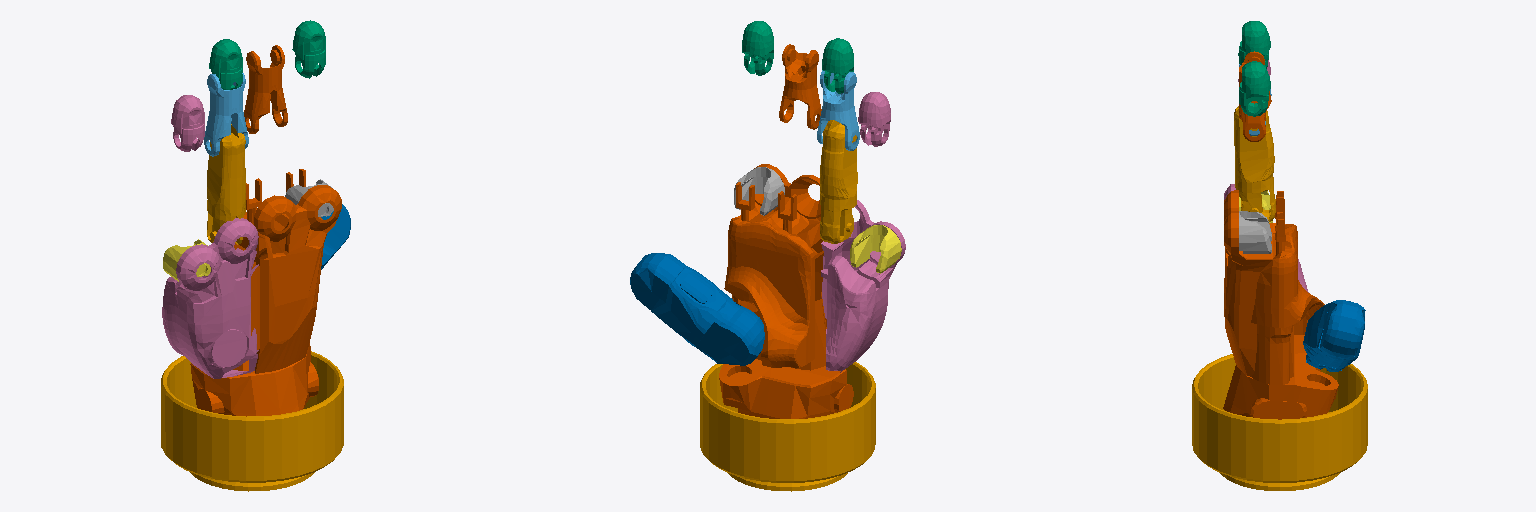
URDF robot description (left_schunk_hand):
<?xml version="1.0"?>
<robot name="left_schunk_hand">
    <link name="left_hand_base">
      <visual>
        <origin xyz="0 0 -0.032" rpy="0 0 0" />
        <geometry>
          <mesh filename="package://meshes/schunk_left/base10.stl" />
        </geometry>
      </visual>
      <collision>
        <origin xyz="0 0 -0.032" rpy="0 0 0" />
        <geometry>
          <mesh filename="package://meshes/schunk_left/base10.stl" />
        </geometry>
      </collision>
    </link>

    <link name="Ld">
      <!-- <visual> -->
      <!--      <geometry> -->
      <!--        <cylinder length="0.110" radius="${cyl_radius}" /> -->
      <!--      </geometry> -->
      <!--      <material name="${name}_green" /> -->
      <!-- </visual> -->
    </link>

    <link name="Lh">
      <!-- <visual> -->
      <!--      <origin rpy="0 1.571 0" xyz="${side*(-0.0125)} 0 0.0825" /> -->
      <!--      <geometry> -->
      <!--        <cylinder length="0.025" radius="${cyl_radius}" /> -->
      <!--      </geometry> -->
      <!--      <material name="${name}_green" /> -->
      <!-- </visual> -->
    </link>

    <link name="Ld2">
      <!-- <visual> -->
      <!--      <origin rpy="0 0 0" xyz="${side*(-0.025)} 0 0.09625" /> -->
      <!--      <geometry> -->
      <!--        <cylinder length="0.0275" radius="${cyl_radius}" /> -->
      <!--      </geometry> -->
      <!--      <material name="${name}_green" /> -->
      <!-- </visual> -->
    </link>

    <link name="Le">
    </link>

    <link name="Le1">
      <visual>
        <origin rpy="0 0 0" xyz="0 0.01313 0" />
        <geometry>
          <mesh scale="-1 1 1" filename="package://meshes/schunk_left/h10.stl" />
        </geometry>
      </visual>
      <collision>
        <origin rpy="0 0 0" xyz="0 0.01313 0" />
        <geometry>
          <mesh scale="-1 1 1" filename="package://meshes/schunk_left/h10.stl" />
        </geometry>
      </collision>
    </link>

    <link name="Le2">
      <visual>
        <origin xyz="0.0007 0 -0.01002" />
        <geometry>
          <mesh scale="-1 1 1" filename="package://meshes/schunk_left/h11.stl" />
        </geometry>
      </visual>
      <collision>
        <origin xyz="0.0007 0 -0.01002" />
        <geometry>
          <mesh scale="-1 1 1" filename="package://meshes/schunk_left/h11.stl" />
        </geometry>
      </collision>
    </link>

    <!-- LENGTH NOT FOUND IN DATASHEET! GUESSED!!! -->
    <link name="Le3">
      <!-- <visual> -->
      <!--      <origin rpy="0 0 0" xyz="${side*(0.0175)} 0 0.015" /> -->
      <!--      <geometry> -->
      <!--        <cylinder length="0.03" radius="${cyl_radius}" /> -->
      <!--      </geometry> -->
      <!--      <material name="green" /> -->
      <!-- </visual> -->
    </link>

    <!-- LENGTH NOT FOUND IN DATASHEET! GUESSED, BUT POSITION CALCULATED: E4 = D-G-F!!! -->
    <link name="Le4">
      <!-- <visual> -->
      <!--      <origin rpy="0 0 0" xyz="${side*(0.02825)} 0 0.043" /> -->
      <!--      <geometry> -->
      <!--        <cylinder length="0.026" radius="${cyl_radius}" /> -->
      <!--      </geometry> -->
      <!--      <material name="green" /> -->
      <!-- </visual> -->
    </link>

    <!-- LENGTH NOT FOUND IN DATASHEET! GUESSED, BUT POSITION CALCULATED: E5 = D-G!!! -->
    <link name="Le5">
      <!-- <visual> -->
      <!--      <origin rpy="0 0 0" xyz="${side*(0.00675)} 0 0.04775" /> -->
      <!--      <geometry> -->
      <!--        <cylinder length="0.0355" radius="${cyl_radius}" /> -->
      <!--      </geometry> -->
      <!--      <material name="green" /> -->
      <!-- </visual> -->
    </link>

  <!-- THUMB LINKS -->
    <link name="Lthumb_1">
      <visual>
        <origin xyz="0 0 0.02442" />
        <geometry>
          <mesh scale="1 -1 1" filename="package://meshes/schunk_left/d10.stl" />
        </geometry>
      </visual>
      <collision>
        <origin xyz="0 0 0.02442" />
        <geometry>
          <mesh scale="1 -1 1" filename="package://meshes/schunk_left/d10.stl" />
        </geometry>
      </collision>
    </link>

    <link name="Lthumb_virtual_2">
    </link>

    <link name="Lthumb_3">
      <visual>
        <geometry>
          <mesh scale="1 -1 -1" filename="package://meshes/schunk_left/d11.stl" />
        </geometry>
      </visual>
      <collision>
        <geometry>
          <mesh scale="1 -1 -1" filename="package://meshes/schunk_left/d11.stl" />
        </geometry>
      </collision>
    </link>

    <link name="Lthumb_4">
      <visual>
        <geometry>
          <mesh scale="1 -1 -1" filename="package://meshes/schunk_left/d12.stl" />
        </geometry>
      </visual>
      <collision>
        <geometry>
          <mesh scale="1 -1 -1" filename="package://meshes/schunk_left/d12.stl" />
        </geometry>
      </collision>
    </link>

    <link name="Lthumb_5">
      <visual>
        <geometry>
          <mesh scale="1 -1 -1" filename="package://meshes/schunk_left/d13.stl" />
        </geometry>
      </visual>
      <collision>
        <geometry>
          <mesh scale="1 -1 -1" filename="package://meshes/schunk_left/d13.stl" />
        </geometry>
      </collision>
    </link>


  <!-- INDEX FINGER LINKS -->
    <link name="Lvirtual_index_1">
      <visual>
        <origin xyz="0 0 0.01321" />
        <geometry>
          <mesh filename="package://meshes/schunk_left/f10.stl" />
        </geometry>
      </visual>
      <collision>
        <origin xyz="0 0 0.01321" />
        <geometry>
          <mesh filename="package://meshes/schunk_left/f10.stl" />
        </geometry>
      </collision>
    </link>

    <link name="Lindex_2">
      <visual>
        <geometry>
          <mesh filename="package://meshes/schunk_left/f11.stl" />
        </geometry>
      </visual>
      <collision>
        <geometry>
          <mesh filename="package://meshes/schunk_left/f11.stl" />
        </geometry>
      </collision>
    </link>

    <link name="Lindex_3">
      <visual>
        <geometry>
          <mesh filename="package://meshes/schunk_left/f12.stl" />
        </geometry>
      </visual>
      <collision>
        <geometry>
          <mesh filename="package://meshes/schunk_left/f12.stl" />
        </geometry>
      </collision>
    </link>

    <link name="Lindex_4">
      <visual>
        <geometry>
          <mesh filename="package://meshes/schunk_left/f13.stl" />
        </geometry>
      </visual>
      <collision>
        <geometry>
          <mesh filename="package://meshes/schunk_left/f13.stl" />
        </geometry>
      </collision>
    </link>

  <!-- MIDDLE FINGER LINKS -->
    <link name="Lvirtual_middle_1">
      <visual>
        <origin xyz="0 0 0.01321" />
        <geometry>
          <mesh filename="package://meshes/schunk_left/f20.stl" />
        </geometry>
      </visual>
      <collision>
        <origin xyz="0 0 0.01321" />
        <geometry>
          <mesh filename="package://meshes/schunk_left/f20.stl" />
        </geometry>
      </collision>
    </link>

    <link name="Lmiddle_2">
      <visual>
        <geometry>
          <mesh filename="package://meshes/schunk_left/f21.stl" />
        </geometry>
      </visual>
      <collision>
        <geometry>
          <mesh filename="package://meshes/schunk_left/f21.stl" />
        </geometry>
      </collision>
    </link>

    <link name="Lmiddle_3">
      <visual>
        <geometry>
          <mesh filename="package://meshes/schunk_left/f22.stl" />
        </geometry>
      </visual>
      <collision>
        <geometry>
          <mesh filename="package://meshes/schunk_left/f22.stl" />
        </geometry>
      </collision>
    </link>

    <link name="Lmiddle_4">
      <visual>
        <geometry>
          <mesh filename="package://meshes/schunk_left/f23.stl" />
        </geometry>
      </visual>
      <collision>
        <geometry>
          <mesh filename="package://meshes/schunk_left/f23.stl" />
        </geometry>
      </collision>
    </link>


    <!-- RING FINGER LINKS -->
    <link name="virtual_ring_1">
      <visual>
        <origin xyz="0 0 -0.01321" />
        <geometry>
          <mesh filename="package://meshes/schunk_left/f30.stl" />
        </geometry>
      </visual>
      <collision>
        <origin xyz="0 0 -0.01321" />
        <geometry>
          <mesh filename="package://meshes/schunk_left/f30.stl" />
        </geometry>
      </collision>
    </link>

    <link name="ring_2">
      <visual>
        <geometry>
          <mesh filename="package://meshes/schunk_left/f31.stl" />
        </geometry>
      </visual>
      <collision>
        <geometry>
          <mesh filename="package://meshes/schunk_left/f31.stl" />
        </geometry>
      </collision>
    </link>

    <link name="ring_3">
      <visual>
        <geometry>
          <mesh filename="package://meshes/schunk_left/f32.stl" />
        </geometry>
      </visual>
      <collision>
        <geometry>
          <mesh filename="package://meshes/schunk_left/f32.stl" />
        </geometry>
      </collision>
    </link>

    <link name="ring_4">
      <visual>
        <geometry>
          <mesh filename="package://meshes/schunk_left/f33.stl" />
        </geometry>
      </visual>
      <collision>
        <geometry>
          <mesh filename="package://meshes/schunk_left/f33.stl" />
        </geometry>
      </collision>
    </link>

  <!-- PINKY FINGER LINKS -->
    <link name="Lvirtual_pinky_1">
      <visual>
        <origin xyz="0 0 -0.01321" />
        <geometry>
          <mesh filename="package://meshes/schunk_left/f40.stl" />
        </geometry>
      </visual>
      <collision>
        <origin xyz="0 0 -0.01321" />
        <geometry>
          <mesh filename="package://meshes/schunk_left/f40.stl" />
        </geometry>
      </collision>
    </link>

    <link name="Lpinky_2">
      <visual>
        <geometry>
          <mesh filename="package://meshes/schunk_left/f41.stl" />
        </geometry>
      </visual>
      <collision>
        <geometry>
          <mesh filename="package://meshes/schunk_left/f41.stl" />
        </geometry>
      </collision>
    </link>

    <link name="Lpinky_3">
      <visual>
        <geometry>
          <mesh filename="package://meshes/schunk_left/f42.stl" />
        </geometry>
      </visual>
      <collision>
        <geometry>
          <mesh filename="package://meshes/schunk_left/f42.stl" />
        </geometry>
      </collision>
    </link>

    <link name="Lpinky_4">
      <visual>
        <geometry>
          <mesh filename="package://meshes/schunk_left/f43.stl" />
        </geometry>
      </visual>
      <collision>
        <geometry>
          <mesh filename="package://meshes/schunk_left/f43.stl" />
        </geometry>
      </collision>
    </link>


  
  <!-- BASE_LINE JOINTS -->
    <!-- JOINT NOT FOR BASE_LINE. BUT WRITTEN DOWN HERE FOR BETTER UX -->
    <joint name="Lf1" type="fixed">
      <parent link="Le1" />
      <child link="Ld" />
      <origin xyz="0 0 0" rpy="0 0 0" />
    </joint>

    <joint name="Lf2" type="fixed">
      <parent link="Ld" />
      <child link="Lh" />
      <origin xyz="0 0 0" rpy="0 0 0" />
    </joint>


    <joint name="Lf3" type="fixed">
      <parent link="Lh" />
      <child link="Ld2" />
      <origin xyz="0 0 0" rpy="0 0 0" />
    </joint>

    <joint name="Lf4" type="fixed">
      <parent link="left_hand_base" />
      <child link="Le1" />
      <origin xyz="0 -0.01313 0" rpy="0 0 0" />
    </joint>


    <joint name="Lf5" type="fixed">
      <parent link="Le2" />
      <child link="Le3" />
      <origin xyz="0 -0.0060 0" rpy="0 0 0" />
    </joint>

    <joint name="Lf6" type="fixed">
      <parent link="Le3" />
      <child link="Le" />
      <origin xyz="0 0 0" rpy="0 0 0" />
    </joint>

    <joint name="Lf7" type="fixed">
      <parent link="Le" />
      <child link="Le4" />
      <origin xyz="0 0 0" rpy="0 0 0" />
    </joint>

    <joint name="Lf8" type="fixed">
      <parent link="Le" />
      <child link="Le5" />
      <origin xyz="0 0 0" rpy="0 0 0" />
    </joint>

  <!-- HAND JOINTS -->
    <joint name="LPart_Hand" type="revolute">
      <parent link="Le1" />
      <child link="Le2" />
      <limit effort="1000.0" lower="0.0" upper="0.98786" velocity="1" />
      <origin xyz="-0.01840 0.006 0.0375" rpy="0 0 0" />
      <axis xyz="0 0 -1" />
      <mimic joint="LThumb_Opposition" multiplier="1" offset="0" />
    </joint>

  <!-- THUMB JOINTS -->
    <joint name="LThumb_Opposition" type="revolute">
      <parent link="Le1" />
      <child link="Lthumb_1" />
      <limit effort="1000.0" lower="0.0" upper="0.9879" velocity="1" />
      <origin xyz="0.01690 0.02626 0" rpy="0 0.2618 1.571" />
      <axis xyz="0 0 1" />
    </joint>

    <joint name="LThumb_Helper" type="fixed">
      <parent link="Lthumb_1" />
      <child link="Lthumb_virtual_2" />
      <origin xyz="0 0 0.04596" rpy="0 -1.5707 3.1416" />
    </joint>

    <joint name="LThumb_Flexion" type="revolute">
      <parent link="Lthumb_virtual_2" />
      <child link="Lthumb_3" />
      <limit effort="1000.0" lower="0.0" upper="0.9704" velocity="1" />
      <origin xyz="0 0 0" rpy="0 0 0.9704" />
      <axis xyz="0 0 -1" />
    </joint>

    <joint name="LThumb_3" type="revolute">
      <parent link="Lthumb_3" />
      <child link="Lthumb_4" />
      <limit effort="1000.0" lower="0.0" upper="0.98506" velocity="1" />
      <origin xyz="0.0485 0 0" rpy="0 0 0" />
      <axis xyz="0 0 -1" />
      <mimic joint="LThumb_Flexion" multiplier="1.01511" offset="0" />
    </joint>

    <joint name="LThumb_4" type="revolute">
      <parent link="Lthumb_4" />
      <child link="Lthumb_5" />
      <limit effort="1000.0" lower="0.0" upper="1.406" velocity="1" />
      <origin xyz="0.030 0 0" rpy="0 0 0" />
      <axis xyz="0 0 -1" />
      <mimic joint="LThumb_Flexion" multiplier="1.44889" offset="0" />
    </joint>

  <!-- INDEX FINGER JOINTS -->
    <joint name="LIndex_Spread" type="revolute">
      <parent link="Ld2" />
      <child link="Lvirtual_index_1" />
      <limit effort="1000.0" lower="0.0" upper="0.28833" velocity="1" />
      <origin xyz="0.025 0 0.110" rpy="0 -1.5707 1.5707" />
      <axis xyz="0 0 -1" />
      <mimic joint="LPinky_Spread" multiplier="0.5" offset="0" />
    </joint>

    <joint name="LIndex_Proximal" type="revolute">
      <parent link="Lvirtual_index_1" />
      <child link="Lindex_2" />
      <limit effort="1000.0" lower="0.0" upper="0.79849" velocity="1" />
      <origin xyz="0 0 0" rpy="-1.5707 0 0" />
      <axis xyz="0 0 1" />
    </joint>

    <joint name="LIndex_3" type="revolute">
      <parent link="Lindex_2" />
      <child link="Lindex_3" />
      <limit effort="1000.0" lower="0" upper="1.334" velocity="1" />
      <origin xyz="0.04804 0 0" rpy="0 0 0" />
      <axis xyz="0 0 1" />
    </joint>

    <joint name="LIndex_4" type="revolute">
      <parent link="Lindex_3" />
      <child link="Lindex_4" />
      <limit effort="1000.0" lower="0" upper="1.394" velocity="1" />
      <origin xyz="0.026 0 0" rpy="0 0 0" />
      <axis xyz="0 0 1" />
      <mimic joint="LIndex_3" multiplier="1.0450" offset="0" />
    </joint>

  <!-- MIDDLE FINGER JOINTS -->
    <joint name="LMiddle_Spread_Dummy" type="fixed">
      <parent link="Ld" />
      <child link="Lvirtual_middle_1" />
      <origin xyz="0 0 0.110" rpy="0 -1.5707 1.5707" />
    </joint>

    <joint name="LMiddle_Proximal" type="revolute">
      <parent link="Lvirtual_middle_1" />
      <child link="Lmiddle_2" />
      <limit effort="1000.0" lower="0.0" upper="0.79849" velocity="1" />
      <origin xyz="0 0 0" rpy="-1.5707 0 0" />
      <axis xyz="0 0 1" />
    </joint>

    <joint name="LMiddle_3" type="revolute">
      <parent link="Lmiddle_2" />
      <child link="Lmiddle_3" />
      <limit effort="1000.0" lower="0" upper="1.334" velocity="1" />
      <origin xyz="0.05004 0 0" rpy="0 0 0" />
      <axis xyz="0 0 1" />
    </joint>

    <joint name="LMiddle_4" type="revolute">
      <parent link="Lmiddle_3" />
      <child link="Lmiddle_4" />
      <limit effort="1000.0" lower="0" upper="1.334" velocity="1" />
      <origin xyz="0.032 0 0" rpy="0 0 0" />
      <axis xyz="0 0 1" />
      <mimic joint="LMiddle_3" multiplier="1.0454" offset="0" />
    </joint>


  <!-- RING FINGER JOINTS -->
    <joint name="LRing_Spread" type="revolute">
      <parent link="Le5" />
      <child link="virtual_ring_1" />
      <limit effort="1000.0" lower="0.0" upper="0.28833" velocity="1" />
      <origin xyz="-0.003855 0 0.0655" rpy="-1.5707 -1.5707 0" />
      <axis xyz="0 0 -1" />
      <mimic joint="LPinky_Spread" multiplier="0.5" offset="0" />
    </joint>

    <joint name="LRing_Proximal" type="revolute">
      <parent link="virtual_ring_1" />
      <child link="ring_2" />
      <limit effort="1000.0" lower="0.0" upper="0.98175" velocity="1" />
      <origin xyz="0 0 0" rpy="1.5707 0 0" />
      <axis xyz="0 0 1" />
    </joint>

    <joint name="LRing_3" type="revolute">
      <parent link="ring_2" />
      <child link="ring_3" />
      <limit effort="1000.0" lower="0" upper="1.334" velocity="1" />
      <origin xyz="0.05004 0 0" rpy="0 0 0" />
      <axis xyz="0 0 1" />
      <mimic joint="LRing_Proximal" multiplier="1.3588" offset="0" />
    </joint>

    <joint name="LRing_4" type="revolute">
      <parent link="ring_3" />
      <child link="ring_4" />
      <limit effort="1000.0" lower="0" upper="1.395" velocity="1" />
      <origin xyz="0.032 0 0" rpy="0 0 0" />
      <axis xyz="0 0 1" />
      <mimic joint="LRing_Proximal" multiplier="1.42093" offset="0" />
    </joint>


  <!-- PINKY JOINTS -->
    <joint name="LPinky_Spread" type="revolute">
      <parent link="Le4" />
      <child link="Lvirtual_pinky_1" />
      <limit effort="1000.0" lower="0.0" upper="0.5829" velocity="1" />
      <origin xyz="-0.025355 0 0.056" rpy="-1.5707 -1.5707 0" />
      <axis xyz="0 0 -1" />
    </joint>

    <joint name="LPinky_Proximal" type="revolute">
      <parent link="Lvirtual_pinky_1" />
      <child link="Lpinky_2" />
      <limit effort="1000.0" lower="0.0" upper="0.98175" velocity="1" />
      <origin xyz="0 0 0" rpy="1.5707 0 0" />
      <axis xyz="0 0 1" />
    </joint>

    <joint name="LPinky_3" type="revolute">
      <parent link="Lpinky_2" />
      <child link="Lpinky_3" />
      <limit effort="1000.0" lower="0" upper="1.334" velocity="1" />
      <origin xyz="0.04454 0 0" rpy="0 0 0" />
      <axis xyz="0 0 1" />
      <mimic joint="LPinky_Proximal" multiplier="1.35880" offset="0" />
    </joint>

    <joint name="LPinky_4" type="revolute">
      <parent link="Lpinky_3" />
      <child link="Lpinky_4" />
      <limit effort="1000.0" lower="0" upper="1.3971" velocity="1" />
      <origin xyz="0.022 0 0" rpy="0 0 0" />
      <axis xyz="0 0 1" />
      <mimic joint="LPinky_Proximal" multiplier="1.42307" offset="0" />
    </joint>


</robot>

--- Render facts (derived) ---
3 views of the same robot in one strip: view 1: azimuth 30°, elevation 25°; view 2: azimuth 150°, elevation 25°; view 3: azimuth 270°, elevation 25° (orthographic).
Robot: left_schunk_hand — 31 links, 30 joints (20 revolute, 10 fixed); root link left_hand_base; default pose: all joints at 0.
Links seen in each view (by area): view 1: Le1, left_hand_base, Le2, ring_2, Lmiddle_3, ring_3, Lpinky_4, Lindex_4, ring_4, Lthumb_3, Lvirtual_pinky_1; view 2: Le1, left_hand_base, Lthumb_3, Le2, ring_2, Lmiddle_3, ring_3, Lvirtual_pinky_1, Lpinky_4, Lindex_4, ring_4, Lvirtual_index_1; view 3: Le1, left_hand_base, Lthumb_3, ring_2, Lindex_4, Lvirtual_index_1, ring_4, Lmiddle_3.
Boxes of the visible links, x1,y1,x2,y2 form: Le1: (190,169,341,416); left_hand_base: (161,351,343,491); Le2: (162,218,258,378); ring_2: (207,124,245,244); Lmiddle_3: (244,45,287,133); ring_3: (204,73,248,156); Lpinky_4: (171,95,204,151); Lindex_4: (292,20,325,78); ring_4: (209,39,242,89); Lthumb_3: (321,204,350,269); Lvirtual_pinky_1: (163,239,210,281); Le1: (719,164,853,418); left_hand_base: (700,362,875,491); Lthumb_3: (630,253,764,365); Le2: (821,200,905,372); ring_2: (820,120,857,243); Lmiddle_3: (779,44,821,129); ring_3: (817,70,859,150); Lvirtual_pinky_1: (850,225,901,273); Lpinky_4: (858,92,890,146); Lindex_4: (742,21,773,75); ring_4: (822,38,853,93); Lvirtual_index_1: (734,167,784,215); Le1: (1223,190,1338,419); left_hand_base: (1192,354,1367,490); Lthumb_3: (1303,300,1365,371); ring_2: (1234,106,1275,221); Lindex_4: (1239,61,1270,116); Lvirtual_index_1: (1239,211,1271,253); ring_4: (1238,21,1270,68); Lmiddle_3: (1239,51,1271,141).
Bounding box of the posed robot: 0.1268 × 0.09 × 0.2395 m (x, y, z).
12 mesh visuals loaded from 23 distinct referenced files (12 binary STL); not drawn: 11 (reference not matched to a file when rendering).
